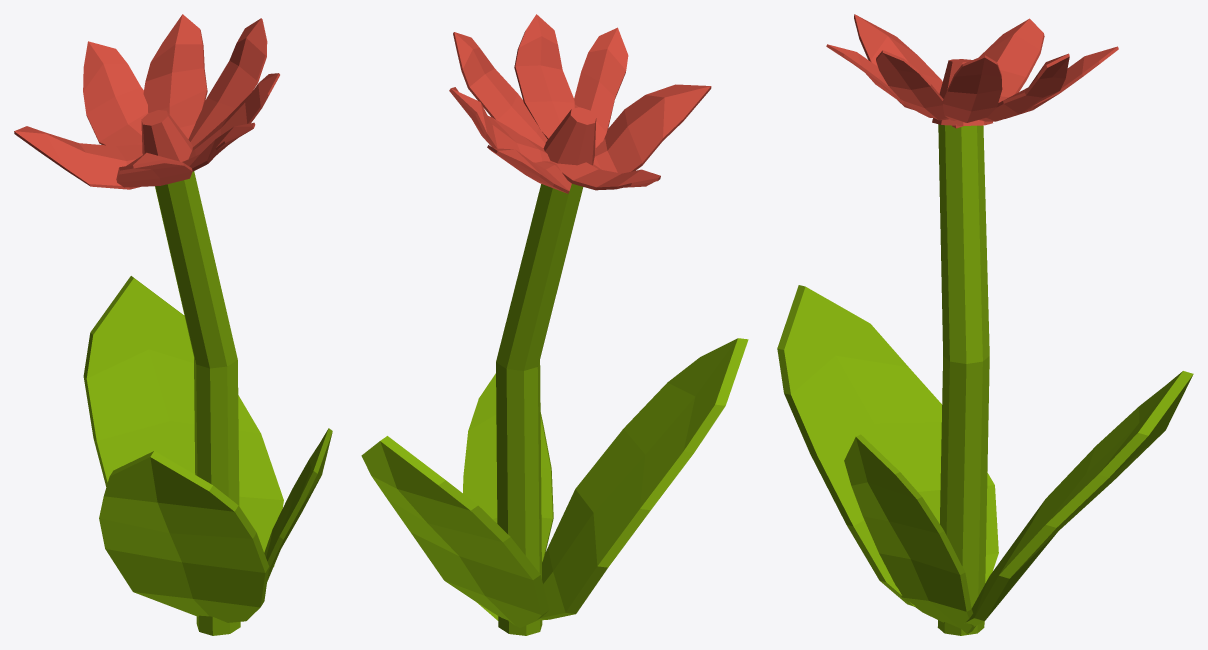
Rendered from FlowerStage4_withoutDirt.fbx.
3 renders of one model, left to right at view 1: azimuth 30°, elevation 25°; view 2: azimuth 150°, elevation 25°; view 3: azimuth 270°, elevation 25°, orthographic. The views are drawn at different scales.
Visible parts, largest first — view 1: Stage3_withoutDirt; view 2: Stage3_withoutDirt; view 3: Stage3_withoutDirt.
Part boxes in pixels (x1,y1,x2,y2): Stage3_withoutDirt: [14, 14, 332, 635]; Stage3_withoutDirt: [361, 14, 748, 635]; Stage3_withoutDirt: [777, 14, 1193, 635].
Bounding box in the file's own units: 64.26 × 140 × 88.09.
